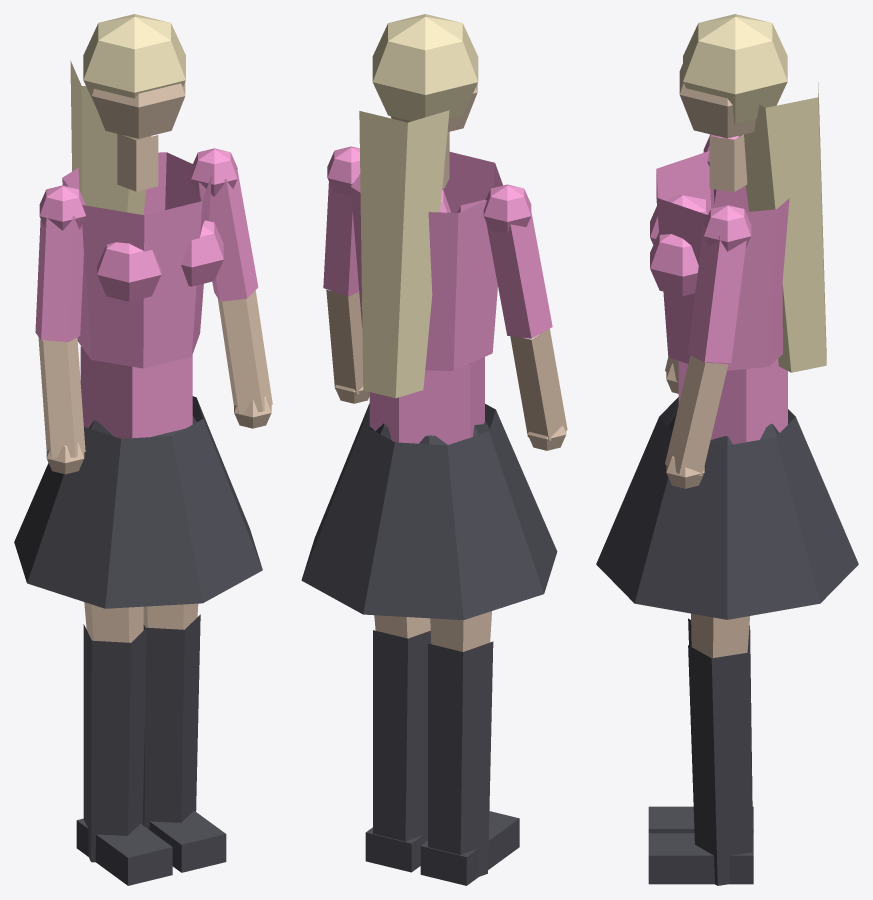
File: angel_stand_a.glb
3 views of the same model, side by side, from view 1: azimuth 30°, elevation 25°; view 2: azimuth 150°, elevation 25°; view 3: azimuth 270°, elevation 25° (orthographic). The views are drawn at different scales.
Parts seen in each view (by area): view 1: angel_stand_a; view 2: angel_stand_a; view 3: angel_stand_a.
Boxes of the visible parts, x1=… form: angel_stand_a: x1=14, y1=14, x2=272, y2=885; angel_stand_a: x1=301, y1=14, x2=567, y2=885; angel_stand_a: x1=596, y1=14, x2=858, y2=885.
Size of the model in its own units: 0.4788 by 1.68 by 0.475.
